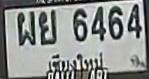4: (91, 5, 105, 40), (127, 3, 141, 38)
6: (72, 8, 87, 41), (108, 5, 122, 39)
A28: (17, 11, 35, 46)
A34: (38, 9, 56, 44)
CMI: (46, 51, 104, 71)
